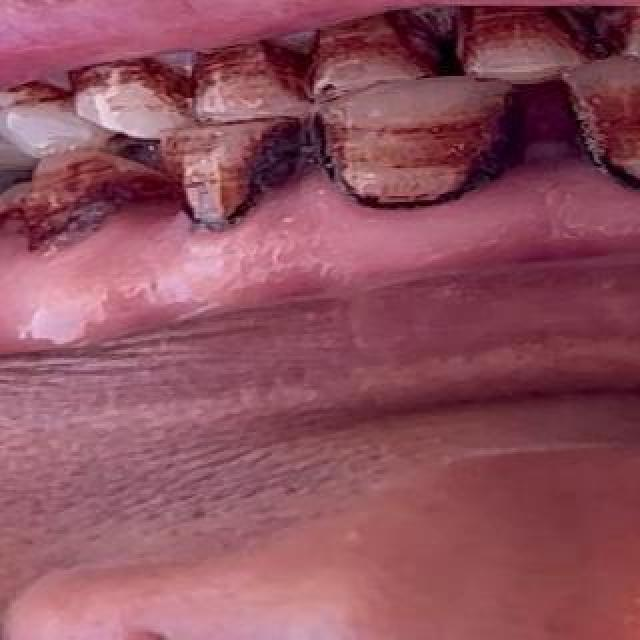spacing: (493, 80, 595, 172)
stains: (323, 105, 513, 225), (294, 0, 430, 106), (165, 126, 313, 222), (438, 0, 594, 86), (20, 164, 150, 260), (190, 28, 314, 124), (78, 50, 192, 124), (582, 74, 640, 208), (3, 75, 81, 135), (618, 6, 640, 86)
